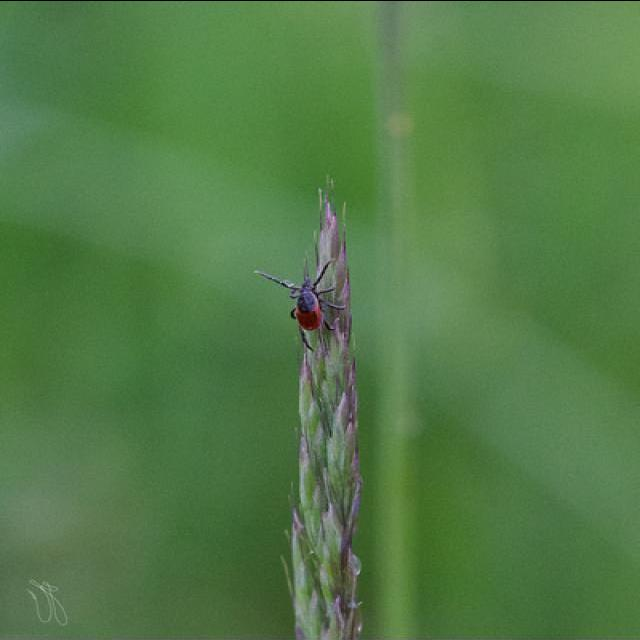Ixodes Ricinus-F: (254, 252, 344, 349)
